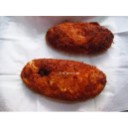seerfish: (16, 57, 108, 104), (45, 20, 115, 57)
